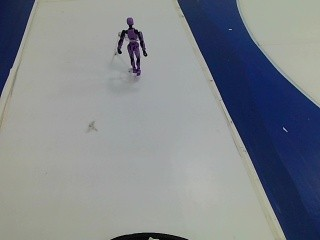pedestrian: (110, 17, 148, 79)
